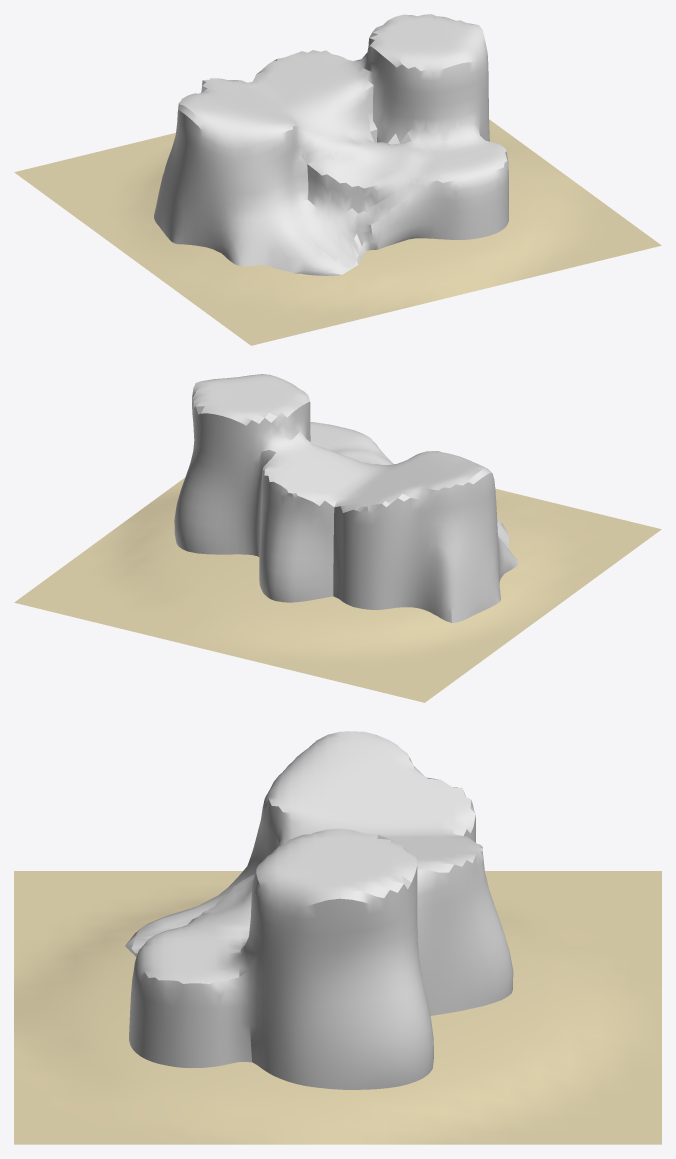
The model's file is Ile2.fbx.
3 renders of one model, top to bottom at view 1: azimuth 30°, elevation 25°; view 2: azimuth 150°, elevation 25°; view 3: azimuth 270°, elevation 25°, orthographic. The views are drawn at different scales.
Visible parts, largest first — view 1: Ile2; view 2: Ile2; view 3: Ile2.
Boxes of the visible parts, x1,y1,x2,y2 form: Ile2: [14, 14, 661, 345]; Ile2: [14, 374, 661, 702]; Ile2: [14, 731, 661, 1144].
Bounding box in the file's own units: 14898 × 14898 × 6845.
